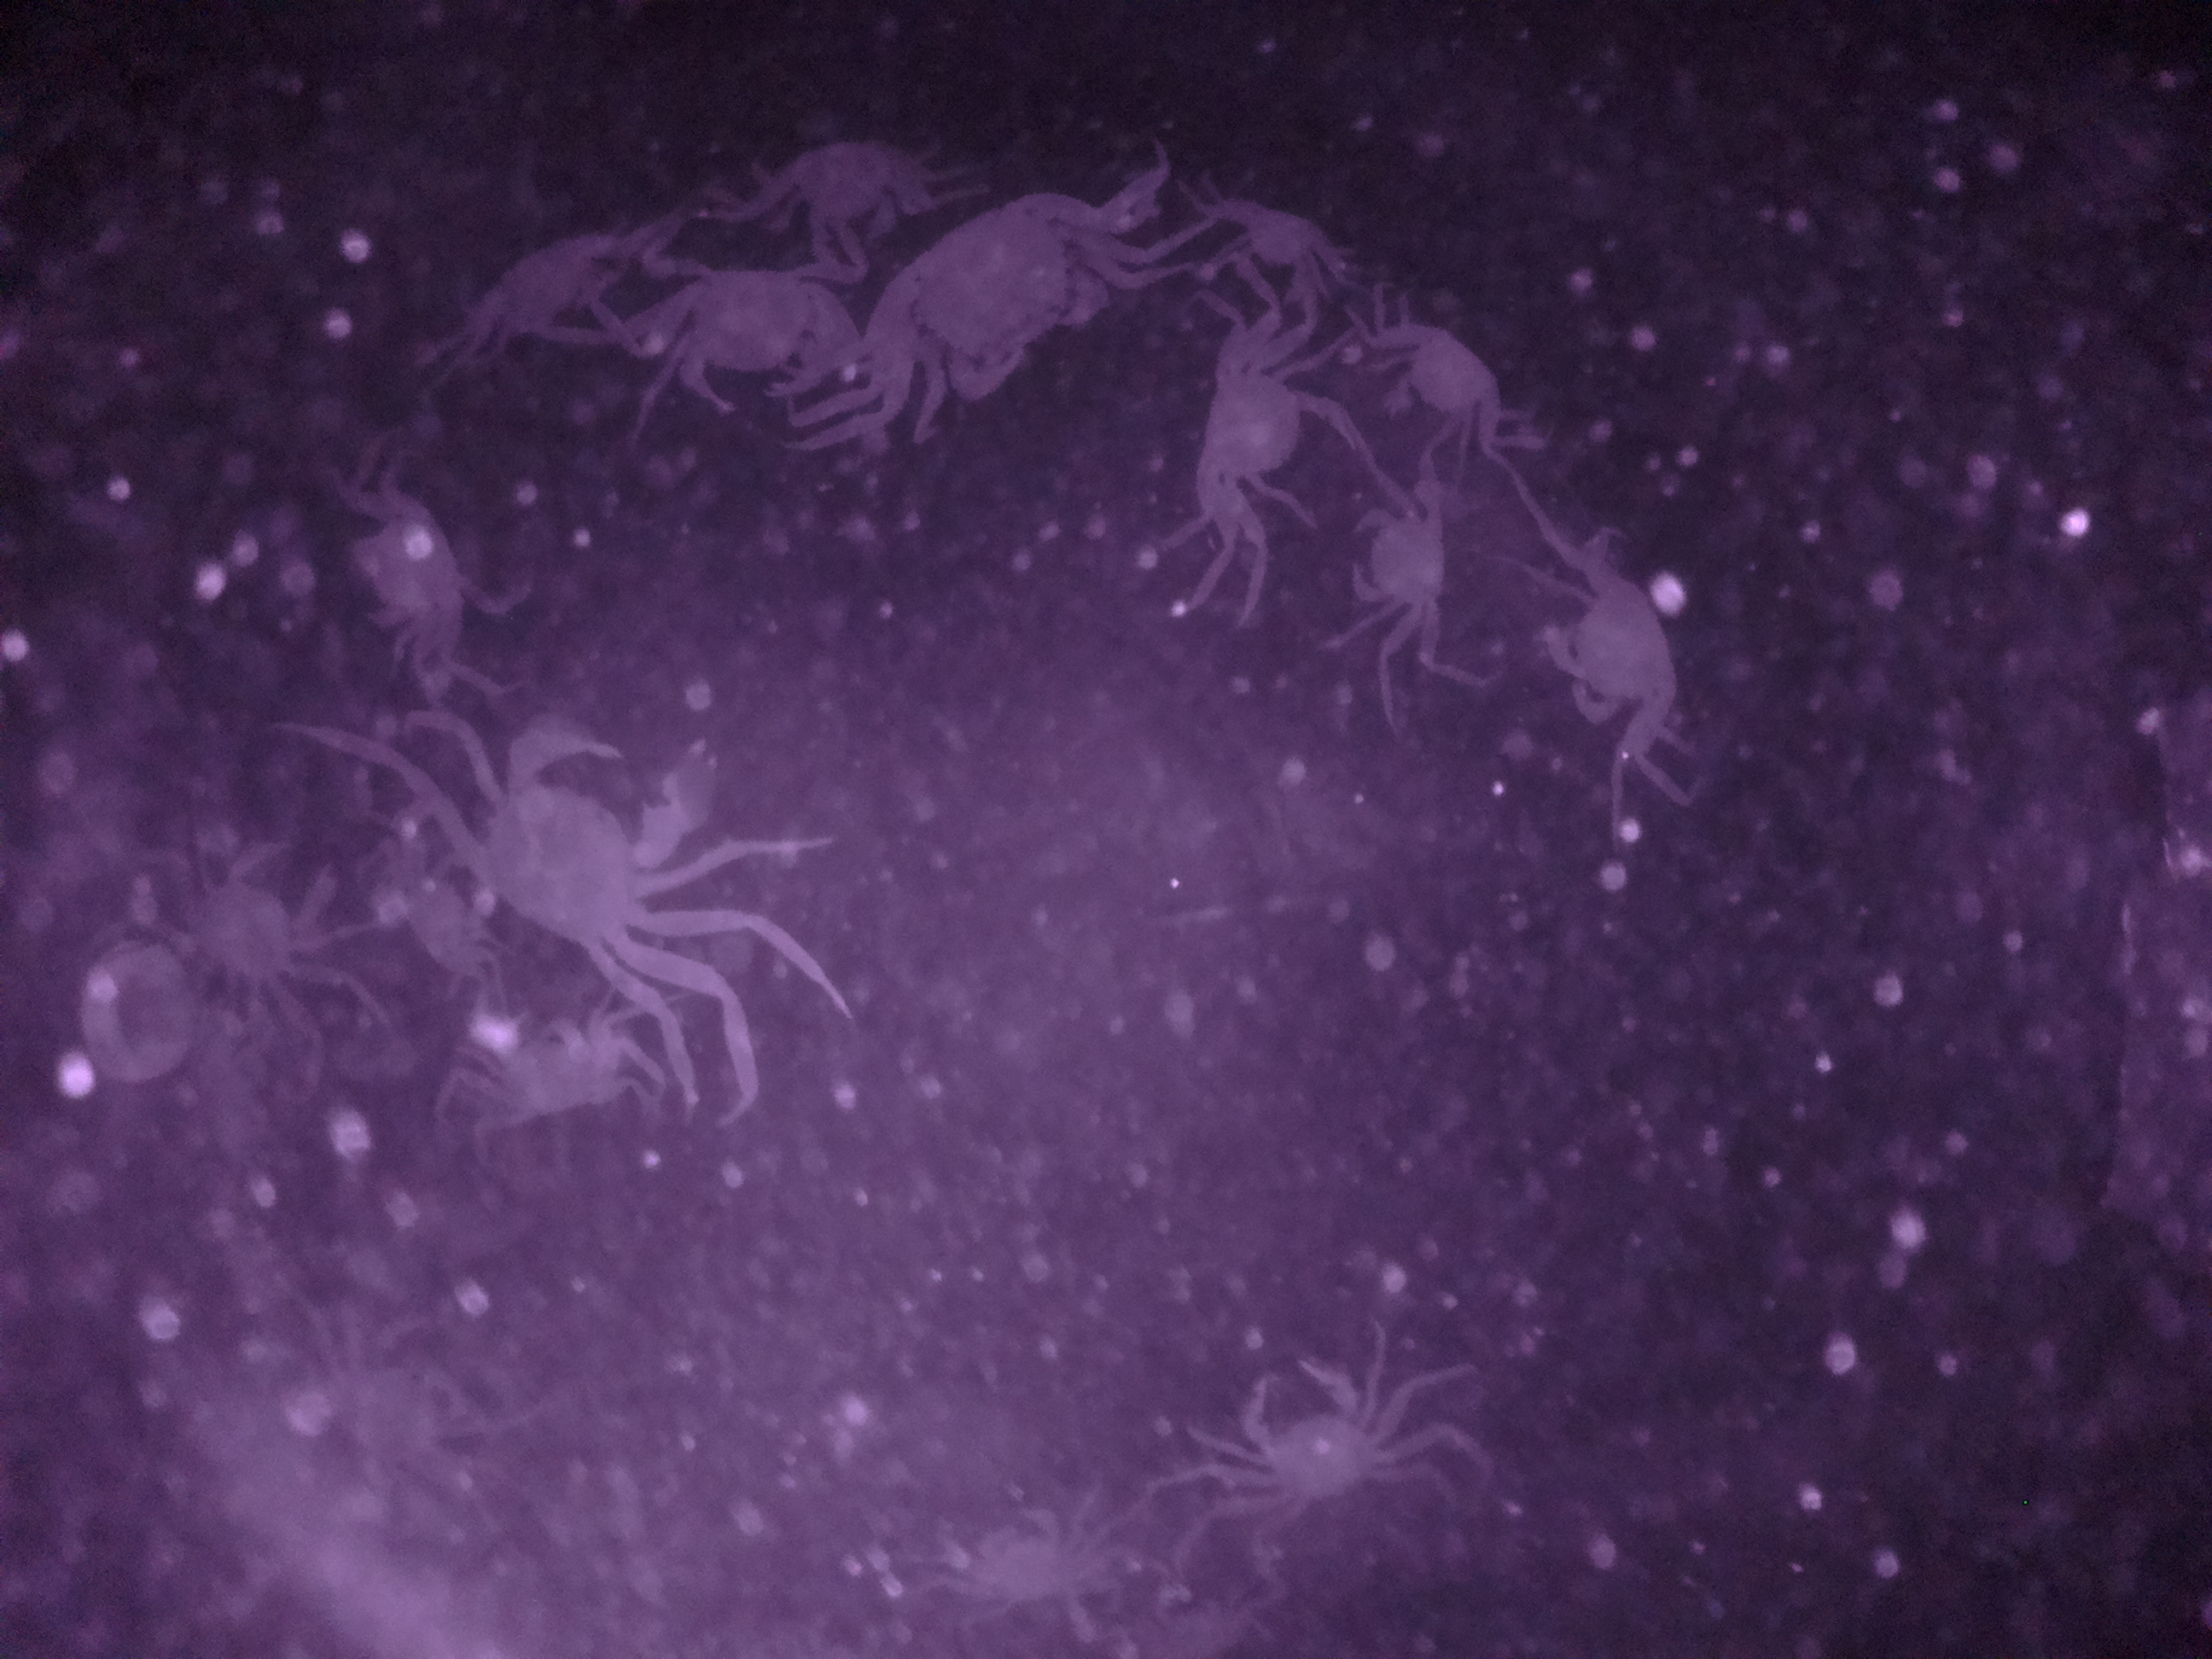Crab: (434, 718, 751, 946), (866, 176, 1139, 436), (1172, 319, 1327, 554), (1221, 1342, 1404, 1539), (618, 260, 848, 415), (1529, 559, 1707, 751), (1362, 296, 1526, 467), (462, 997, 622, 1152), (1339, 481, 1467, 647)
